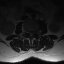CCS_stenosis: (30, 30, 32, 37)
LFS_stenosis: (33, 30, 35, 35)
LLS_stenosis: (32, 30, 33, 35)
RFS_stenosis: (27, 30, 29, 35)
RLS_stenosis: (29, 30, 30, 36)
